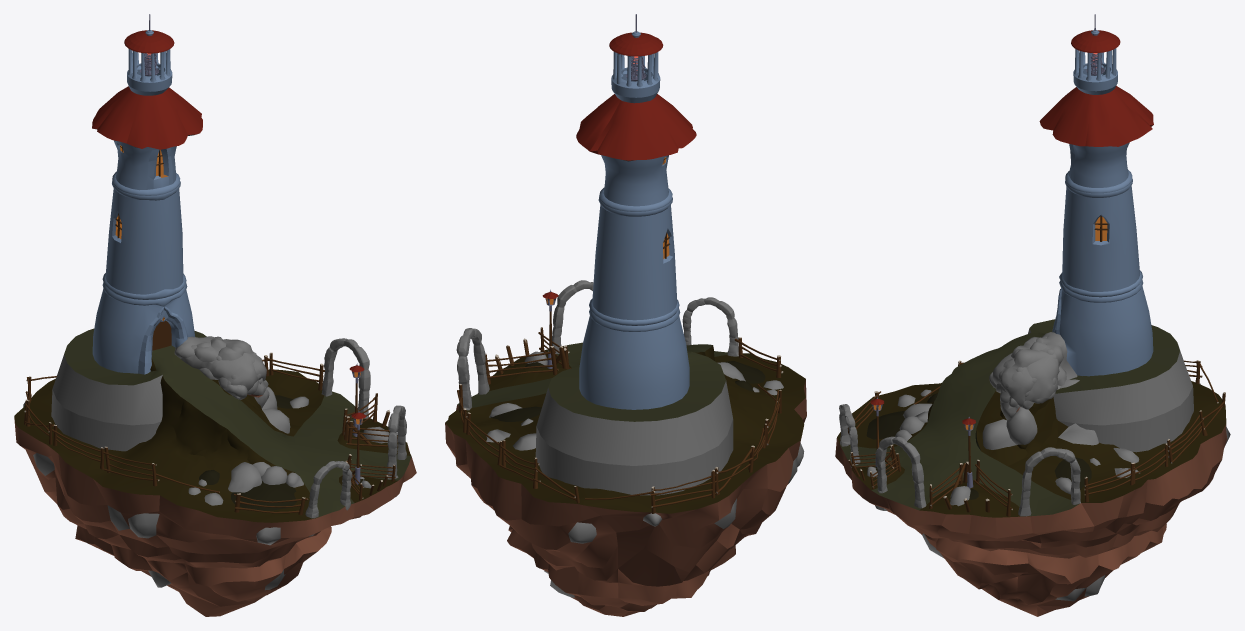
File: house.glb
3 renders of one model, left to right at view 1: azimuth 30°, elevation 25°; view 2: azimuth 150°, elevation 25°; view 3: azimuth 270°, elevation 25°, orthographic. The views are drawn at different scales.
Parts seen in each view (by area): view 1: land; view 2: land; view 3: land.
Part boxes in pixels (<box>): land: <box>14,14,416,616</box>; land: <box>445,14,806,616</box>; land: <box>835,14,1230,616</box>.
Size of the model in its own units: 87.79 by 168 by 103.
